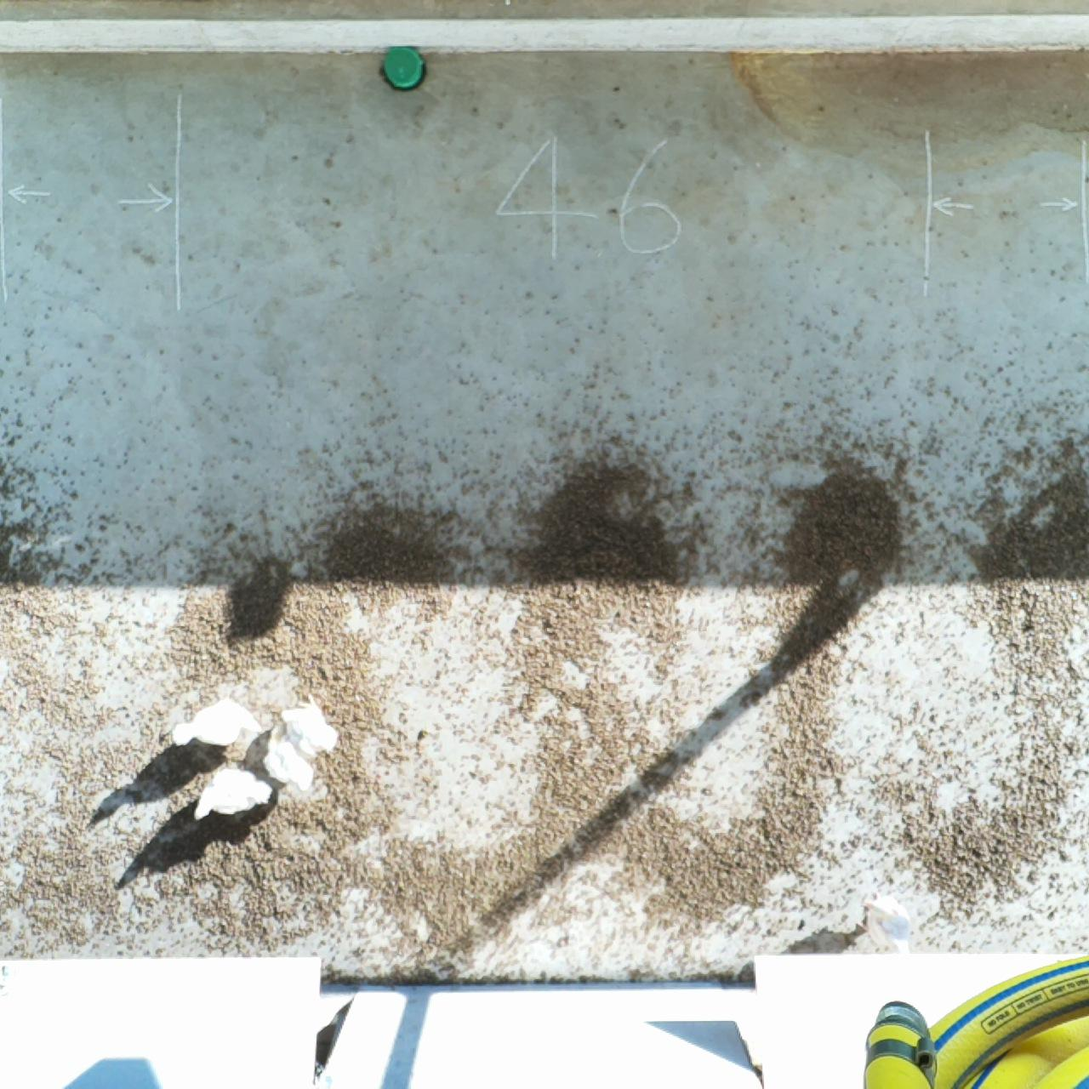chicken: (191, 761, 277, 826), (168, 693, 266, 750), (852, 884, 917, 957), (279, 690, 340, 761), (262, 719, 318, 795)
